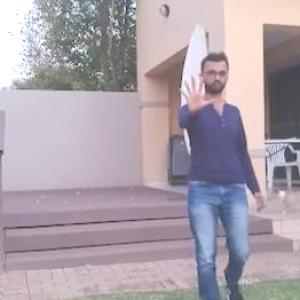follow_hand: (174, 68, 218, 117)
